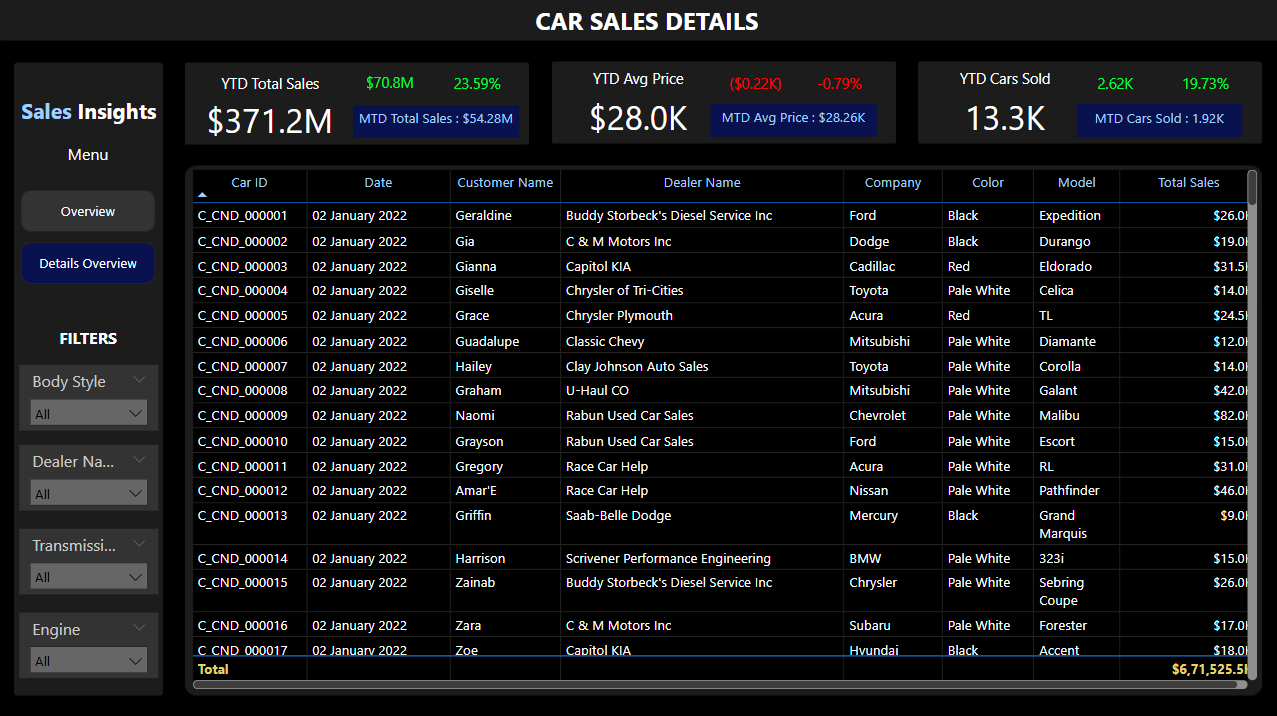

Layout of this report page (visuals, bound fields, positions):
{"tool":"powerbi","page":{"name":"Details Overview","canvas":[1280,720],"ordinal":1},"visuals":[{"type":"card","title":"YTD Total Sales","fields":{"Values":["car_data.YTD Total Sales"]},"box":[188.9,72.2,166.7,75.6],"z":0},{"type":"card","fields":{"Values":["car_data.Sales Difference"]},"box":[346.5,64.1,91.2,41.8],"z":1000},{"type":"card","fields":{"Values":["car_data.YOY Sales Growth"]},"box":[437.6,64.7,83.5,41.2],"z":2000},{"type":"card","fields":{"Values":["car_data.MTD KPI"]},"box":[354.7,105.3,166.5,31.8],"z":3000},{"type":"card","title":"YTD Avg Price","fields":{"Values":["car_data.YTD Avg Price"]},"box":[557.8,67.8,165.6,80],"z":4000},{"type":"card","fields":{"Values":["car_data.Avg Price Diff"]},"box":[712.5,65,90,41.2],"z":5000},{"type":"card","fields":{"Values":["car_data.YOY Avg Price"]},"box":[796.2,65,90,41.2],"z":6000},{"type":"card","fields":{"Values":["car_data.MTD Avg Price KPI"]},"box":[712.5,103.8,166.2,32.5],"z":7000},{"type":"card","title":"YTD Avg Price","fields":{"Values":["car_data.YTD Avg Price"]},"box":[1371.7,56.7,168.3,80],"z":8000},{"type":"card","title":"YTD Cars Sold","fields":{"Values":["car_data.YTD Cars Sold"]},"box":[923.3,67.8,166.7,80],"z":9000},{"type":"card","fields":{"Values":["car_data.Cars Sold Diff"]},"box":[1072.5,65,90,41.2],"z":10000},{"type":"card","fields":{"Values":["car_data.YOY Cars Sold Growth"]},"box":[1162.5,65,90,41.2],"z":11000},{"type":"card","fields":{"Values":["car_data.MTD Cars Sold KPI"]},"box":[1078.9,103.3,165.6,33.3],"z":12000},{"type":"textbox","box":[532.9,0,234.3,42.9],"z":13000},{"type":"slicer","fields":{"Values":["car_data.Body Style"]},"box":[21.1,364.4,138.9,65.6],"z":14000},{"type":"slicer","fields":{"Values":["car_data.Dealer_Name"]},"box":[21.1,445.6,138.9,65.6],"z":15000},{"type":"slicer","fields":{"Values":["car_data.Transmission"]},"box":[21.1,528.9,138.9,65.6],"z":16000},{"type":"slicer","fields":{"Values":["car_data.Engine"]},"box":[21.1,612.2,138.9,65.6],"z":17000},{"type":"textbox","box":[21.1,321.1,137.8,43.3],"z":18000},{"type":"tableEx","fields":{"Values":["car_data.Car_id","car_data.Date","car_data.Customer Name","car_data.Dealer_Name","car_data.Company","car_data.Color","car_data.Model","car_data.Price ($)"]},"box":[189,165,1075,529],"z":19000},{"type":"textbox","box":[14,91,154,45],"z":20000},{"type":"textbox","box":[58,137,65,36],"z":21000},{"type":"pageNavigator","box":[23,190,135,95],"z":22000}]}

Visuals, with their boxes on the page's 1280x720 design canvas (x1, y1, x2, y2). These are canvas units, not pixel positions in the 1277x716 screenshot, which may show the page scaled, cropped or inside an application window:
"YTD Total Sales" card: [189,72,356,148]
card - car_data.Sales Difference: [346,64,438,106]
card - car_data.YOY Sales Growth: [438,65,521,106]
card - car_data.MTD KPI: [355,105,521,137]
"YTD Avg Price" card: [558,68,723,148]
card - car_data.Avg Price Diff: [712,65,802,106]
card - car_data.YOY Avg Price: [796,65,886,106]
card - car_data.MTD Avg Price KPI: [712,104,879,136]
"YTD Avg Price" card: [1372,57,1540,137]
"YTD Cars Sold" card: [923,68,1090,148]
card - car_data.Cars Sold Diff: [1072,65,1162,106]
card - car_data.YOY Cars Sold Growth: [1162,65,1252,106]
card - car_data.MTD Cars Sold KPI: [1079,103,1244,137]
textbox: [533,0,767,43]
slicer - car_data.Body Style: [21,364,160,430]
slicer - car_data.Dealer_Name: [21,446,160,511]
slicer - car_data.Transmission: [21,529,160,594]
slicer - car_data.Engine: [21,612,160,678]
textbox: [21,321,159,364]
tableEx - car_data.Car_id x car_data.Date: [189,165,1264,694]
textbox: [14,91,168,136]
textbox: [58,137,123,173]
pageNavigator: [23,190,158,285]
